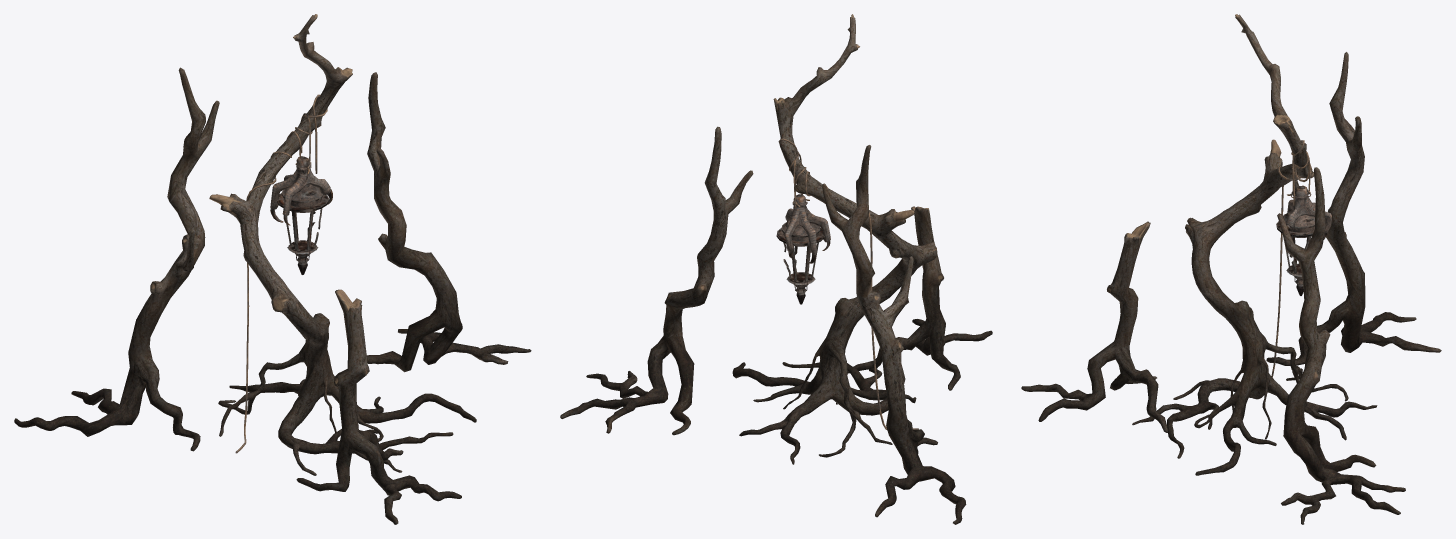
Rendered from P_DropTombstone01.FBX.
3 views of the same model, side by side, from view 1: azimuth 30°, elevation 25°; view 2: azimuth 150°, elevation 25°; view 3: azimuth 270°, elevation 25° (orthographic). The views are drawn at different scales.
Parts seen in each view (by area): view 1: P_DropTombstone01; view 2: P_DropTombstone01; view 3: P_DropTombstone01.
Boxes of the visible parts, bbox=[...] form: P_DropTombstone01: bbox=[14, 14, 531, 524]; P_DropTombstone01: bbox=[560, 14, 992, 524]; P_DropTombstone01: bbox=[1021, 14, 1441, 524].
Size of the model in its own units: 143 by 128 by 122.
